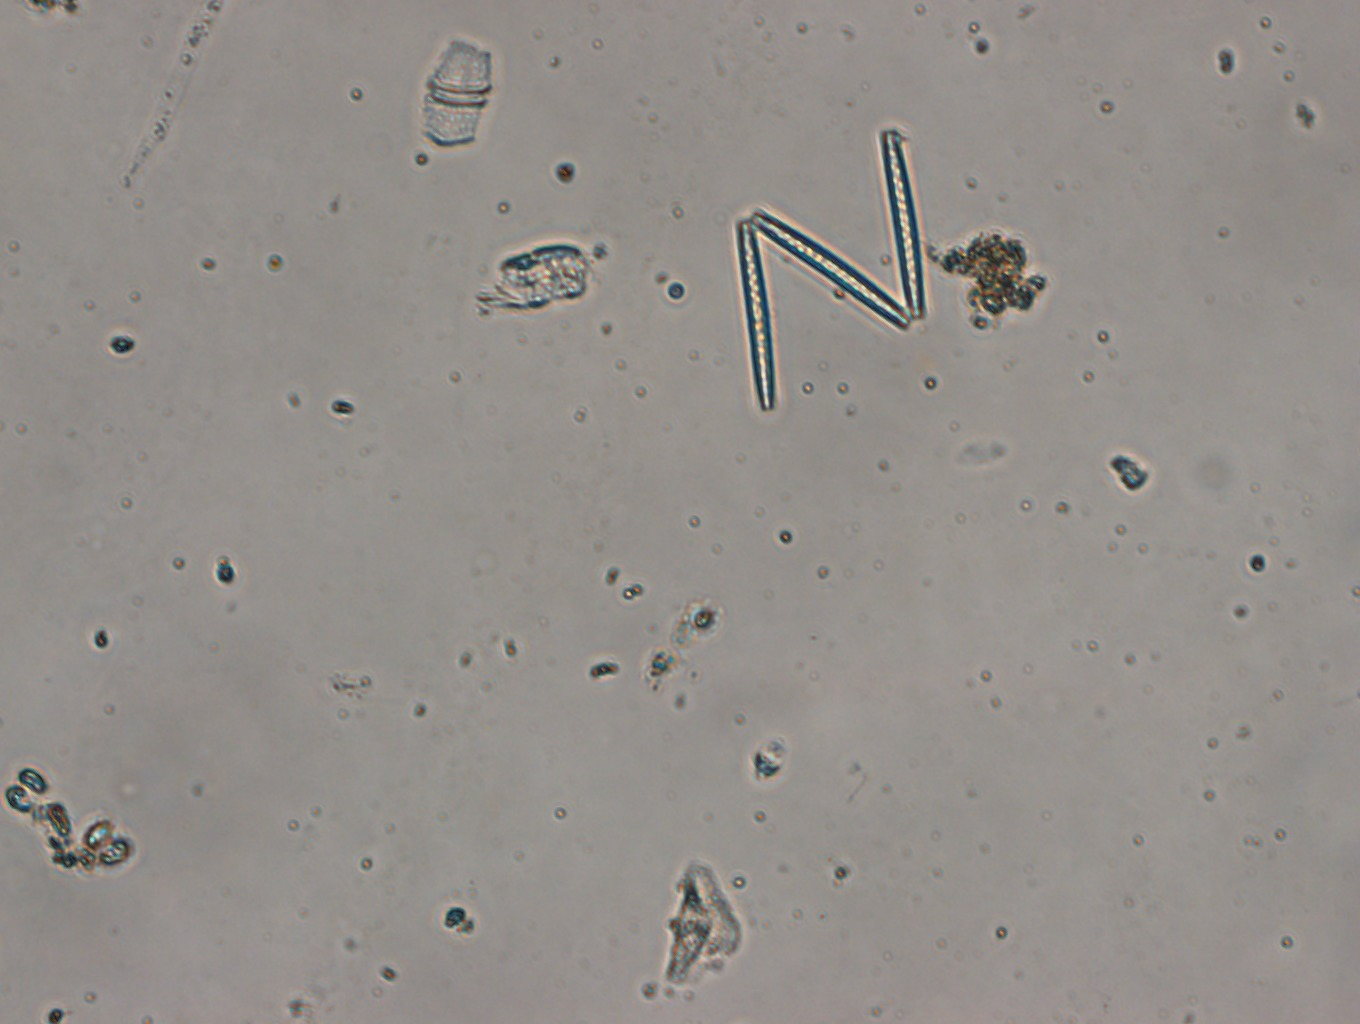thalassionema nitzschioides: (724, 125, 932, 418)
